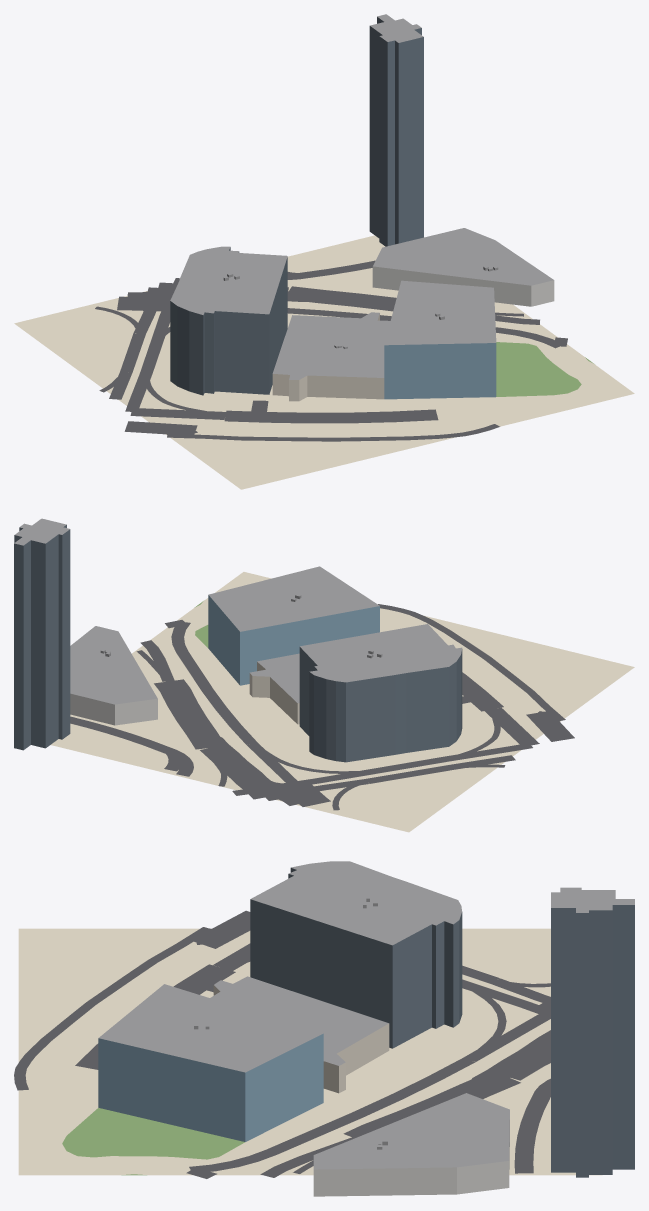
Rendered from tile_-1_6_far.glb.
3 views of the same model, one above another, from view 1: azimuth 30°, elevation 25°; view 2: azimuth 150°, elevation 25°; view 3: azimuth 270°, elevation 25° (orthographic). The views are drawn at different scales.
Parts seen in each view (by area): view 1: nature_ground, buildings_roof, buildings_glass_dark, roads_asphalt, buildings_glass_blue, nature_grass, buildings_concrete_light, buildings_concrete_warm; view 2: nature_ground, buildings_glass_dark, buildings_roof, roads_asphalt, buildings_glass_blue, buildings_concrete_light, buildings_concrete_warm; view 3: nature_ground, buildings_glass_dark, buildings_roof, roads_asphalt, buildings_glass_blue, nature_grass, buildings_concrete_light, buildings_concrete_warm.
Boxes of the visible parts, x1=… form: nature_ground: x1=14, y1=235, x2=634, y2=489; buildings_roof: x1=170, y1=14, x2=553, y2=379; buildings_glass_dark: x1=170, y1=17, x2=423, y2=395; roads_asphalt: x1=95, y1=260, x2=567, y2=441; buildings_glass_blue: x1=384, y1=343, x2=496, y2=399; nature_grass: x1=496, y1=342, x2=593, y2=396; buildings_concrete_light: x1=372, y1=266, x2=554, y2=306; buildings_concrete_warm: x1=272, y1=313, x2=384, y2=401; nature_ground: x1=51, y1=572, x2=634, y2=832; buildings_glass_dark: x1=14, y1=525, x2=462, y2=762; buildings_roof: x1=14, y1=518, x2=462, y2=704; roads_asphalt: x1=70, y1=604, x2=574, y2=810; buildings_glass_blue: x1=208, y1=595, x2=379, y2=685; buildings_concrete_light: x1=70, y1=693, x2=157, y2=725; buildings_concrete_warm: x1=249, y1=662, x2=299, y2=724; nature_ground: x1=18, y1=928, x2=602, y2=1175; buildings_glass_dark: x1=250, y1=868, x2=634, y2=1177; buildings_roof: x1=98, y1=861, x2=634, y2=1169; roads_asphalt: x1=14, y1=910, x2=550, y2=1178; buildings_glass_blue: x1=98, y1=1033, x2=323, y2=1141; nature_grass: x1=62, y1=1108, x2=244, y2=1175; buildings_concrete_light: x1=313, y1=1120, x2=509, y2=1196; buildings_concrete_warm: x1=213, y1=985, x2=389, y2=1093.
Bounding box in the file's own units: 290 × 125 × 266.
